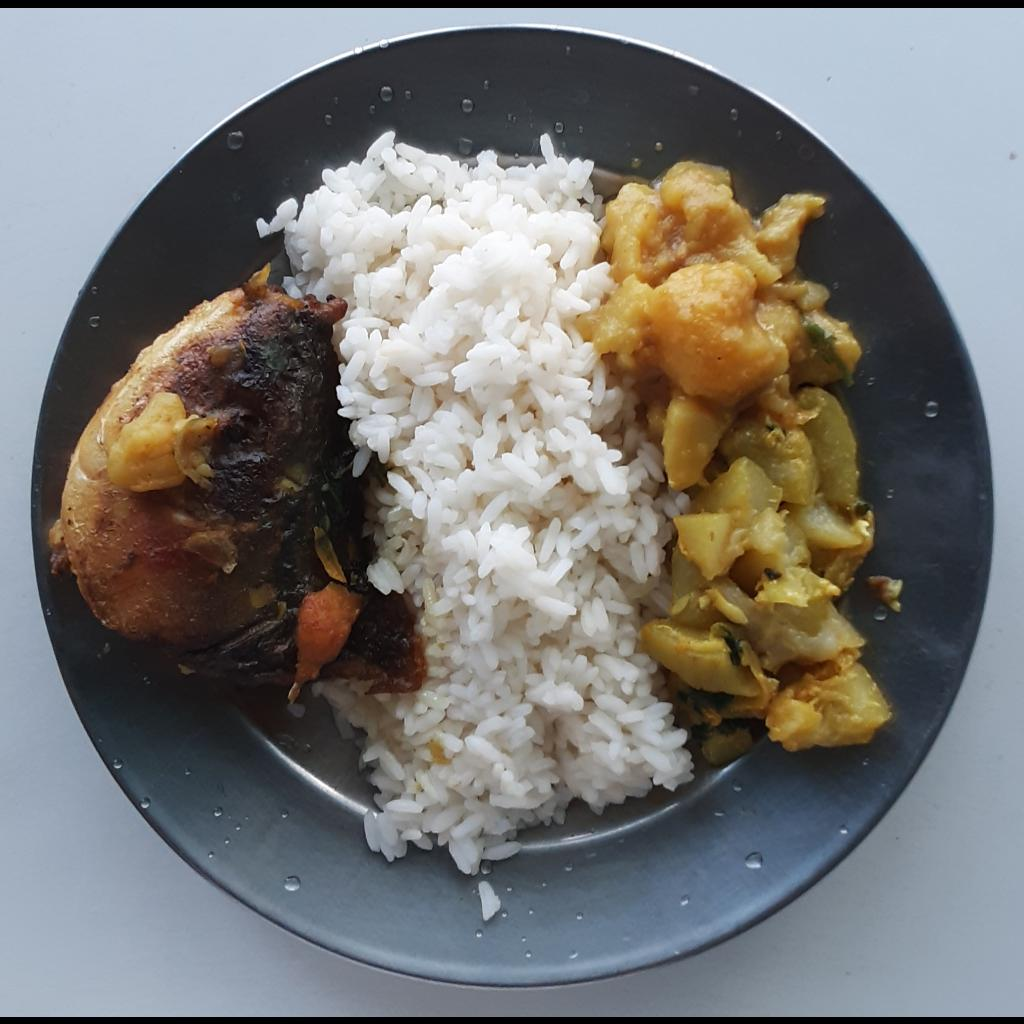carrot: (291, 587, 356, 683)
fish: (50, 254, 423, 687)
kochu: (583, 157, 863, 436)
lau: (642, 385, 886, 767)
rice: (254, 125, 701, 916)
